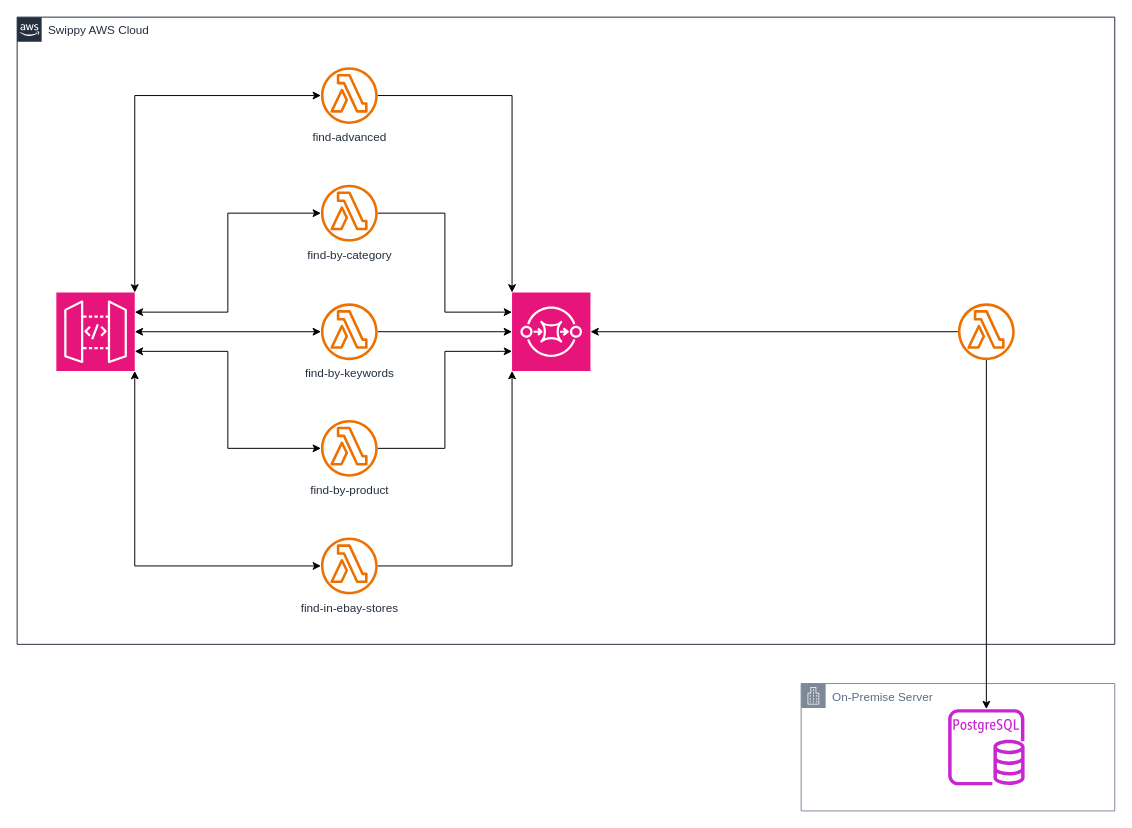
This 1132x828 diagram has some shape labels left out. The shapes that lost their labels are listed below. From the top down, each one's centre as x and y in pixels, then its label:
At (95,331): "swippy-api-gw".
At (550,331): "swippy-api-queue".
At (985,331): "db-insert".
At (986,747): "Swippy Database".
